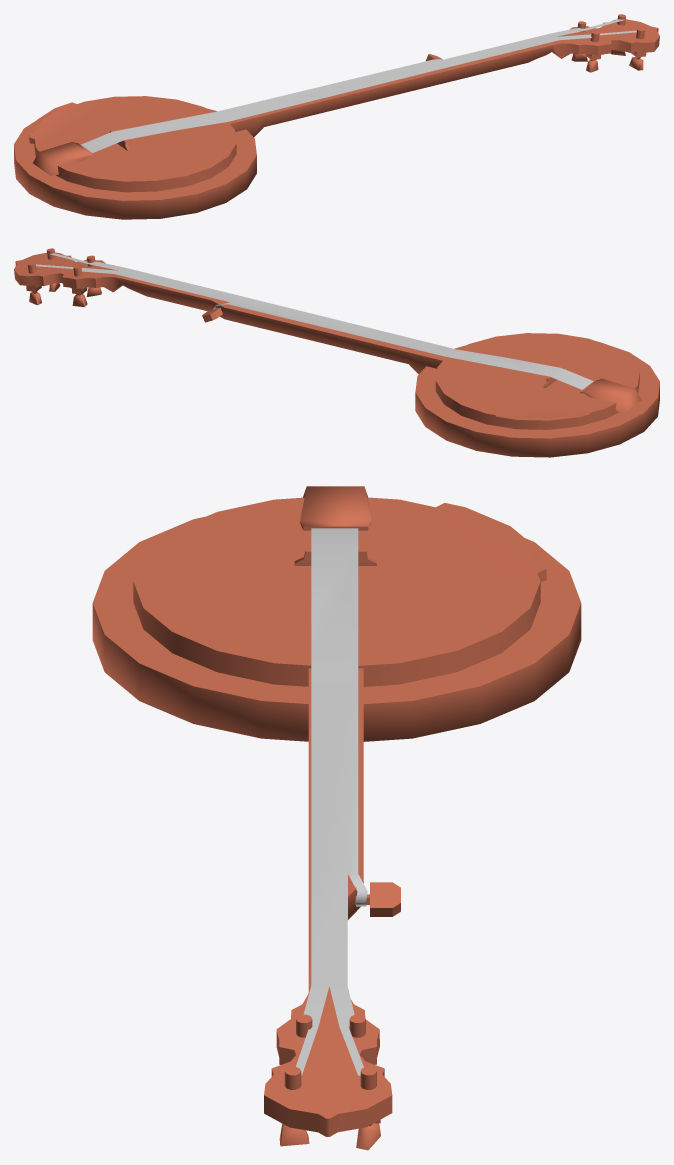
File: banjo.fbx
3 renders of one model, top to bottom at view 1: azimuth 30°, elevation 25°; view 2: azimuth 150°, elevation 25°; view 3: azimuth 270°, elevation 25°, orthographic. The views are drawn at different scales.
Visible parts, largest first — view 1: banjo_LOD0; view 2: banjo_LOD0; view 3: banjo_LOD0.
Part boxes in pixels (bbox=[...]): banjo_LOD0: bbox=[14, 14, 659, 219]; banjo_LOD0: bbox=[14, 248, 659, 457]; banjo_LOD0: bbox=[92, 486, 581, 1150].
Size of what is drawn, in the model's own units: 403 by 30.45 by 136.
